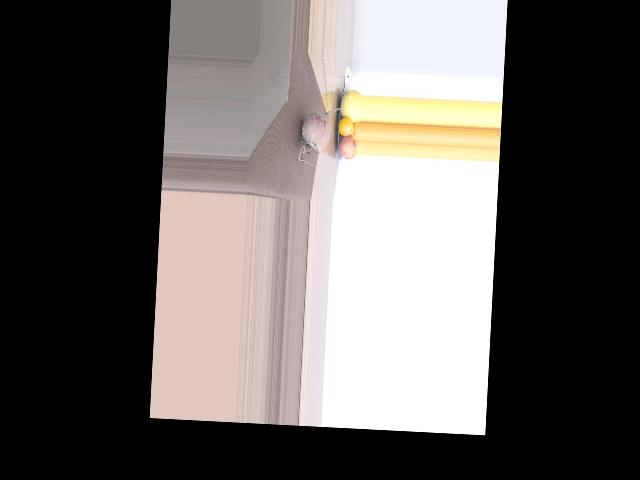beet: (297, 105, 345, 167)
